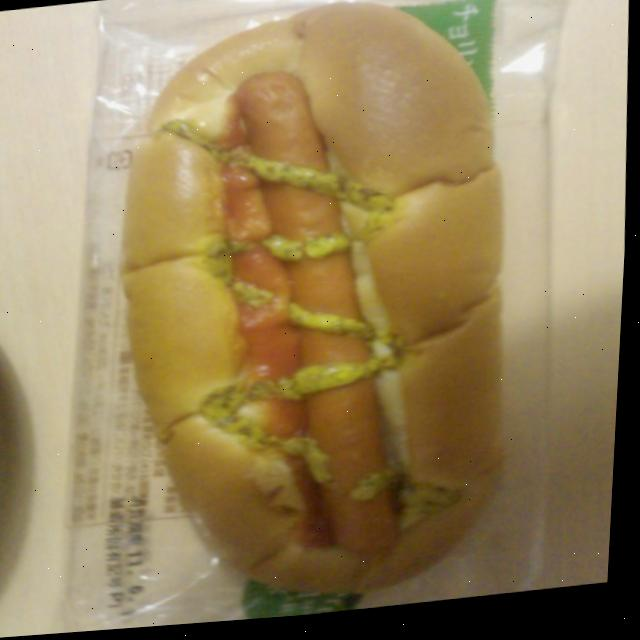汉堡快餐: (93, 0, 549, 632)
